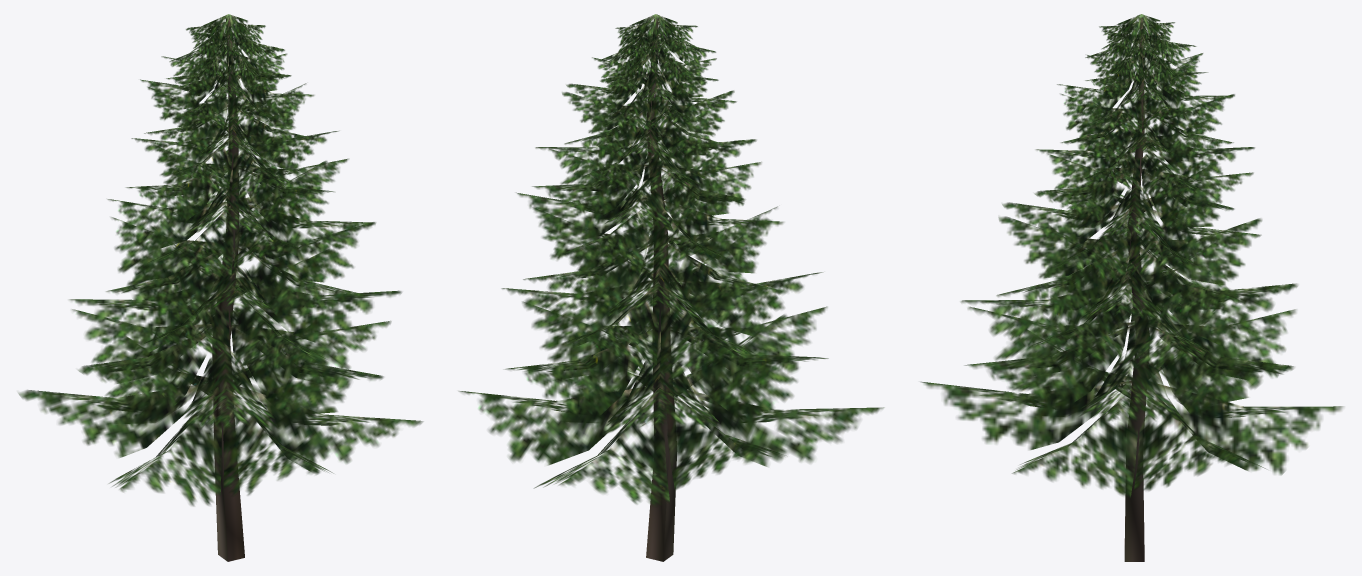
File: pine-mature-b.glb
3 renders of one model, left to right at view 1: azimuth 30°, elevation 25°; view 2: azimuth 150°, elevation 25°; view 3: azimuth 270°, elevation 25°, orthographic.
Visible parts, largest first — view 1: Cube_034; view 2: Cube_034; view 3: Cube_034.
Boxes of the visible parts, x1,y1,x2,y2 form: Cube_034: (18,14,423,561); Cube_034: (459,14,883,561); Cube_034: (921,14,1343,561).
Size of the model in its own units: 0.1753 by 0.2821 by 0.2028.
Materials: 1 (1 with a texture image).
